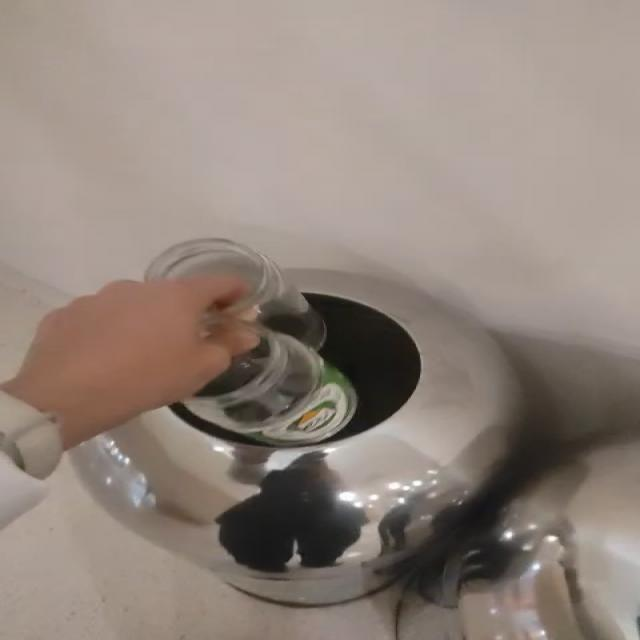glass: (144, 239, 357, 445)
